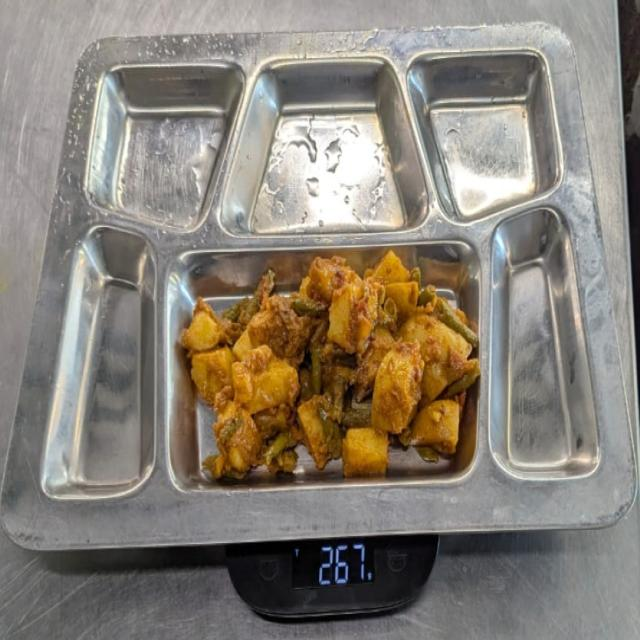Aloo Beans: (201, 277, 464, 473)
